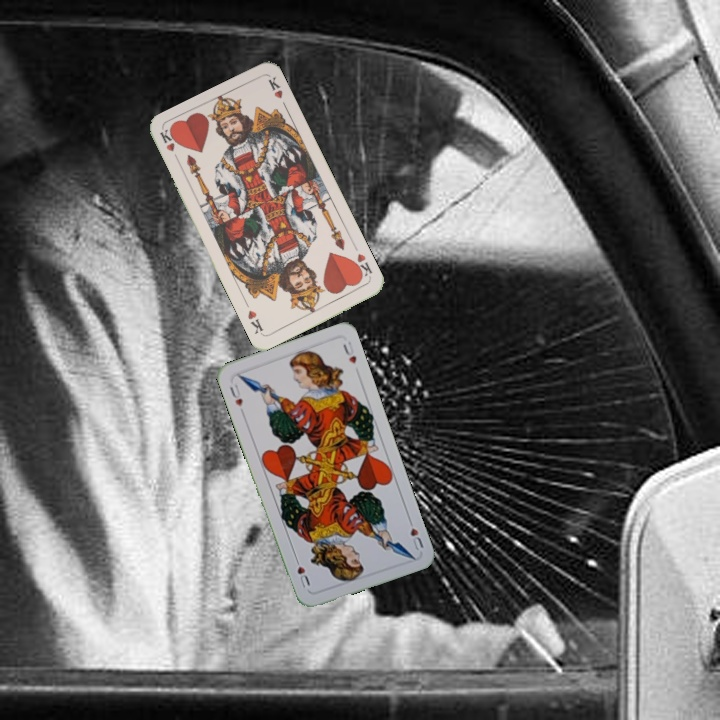HK: (156, 126, 182, 166), (349, 249, 375, 282)
HU: (404, 514, 426, 553), (226, 378, 245, 409)
